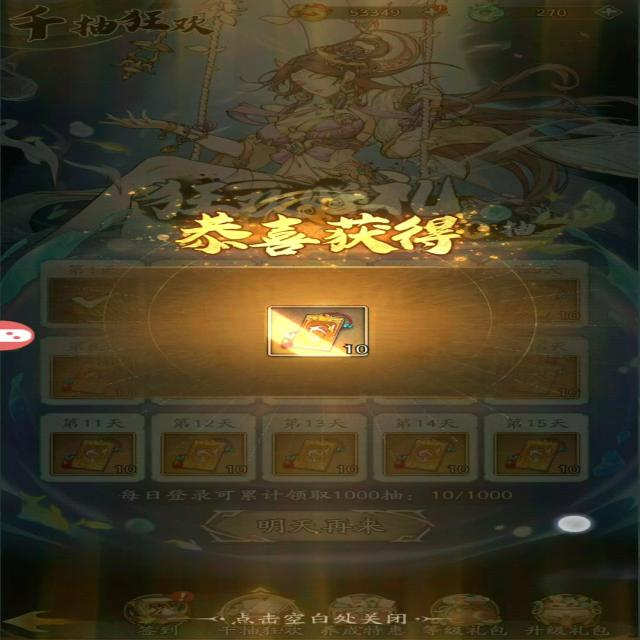hint-guide: (211, 606, 427, 630)
